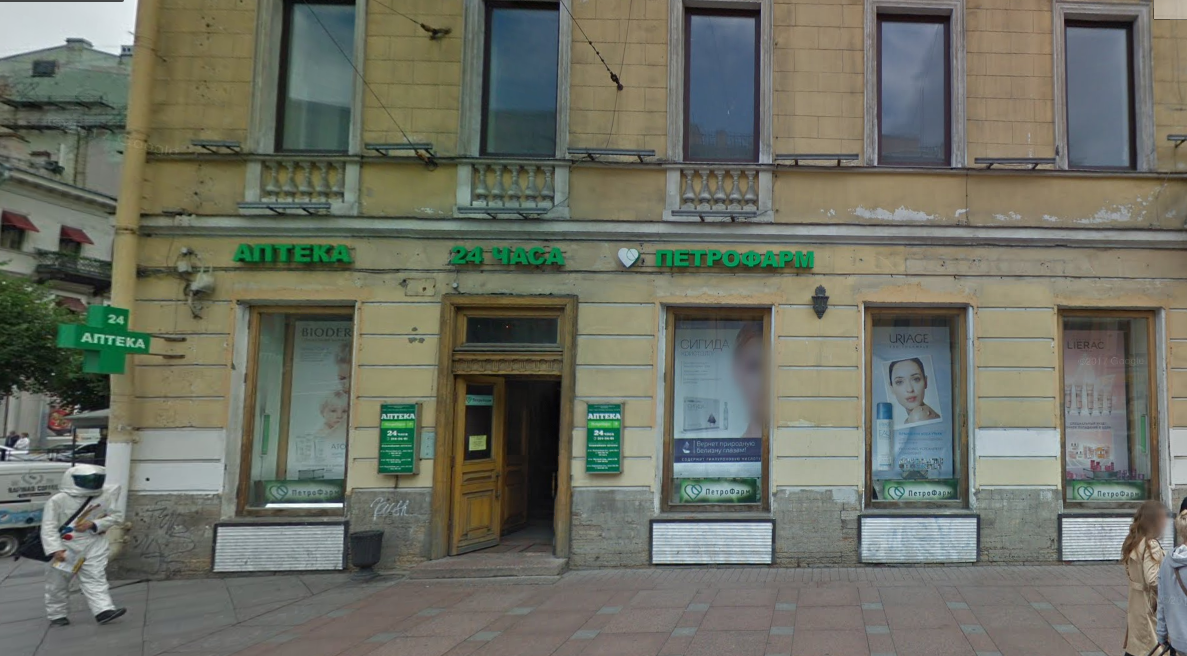cantilever: (59, 298, 195, 371)
door: (440, 367, 560, 560)
signboard: (235, 240, 819, 275)
win_ad: (675, 318, 764, 505), (873, 321, 954, 499), (1064, 329, 1149, 495), (293, 316, 349, 507)
window: (235, 301, 353, 525), (660, 304, 771, 511), (1055, 308, 1163, 504), (867, 302, 969, 508), (686, 5, 759, 168), (1065, 19, 1140, 171), (489, 1, 559, 158), (879, 15, 952, 162), (289, 1, 354, 155), (452, 308, 565, 352)
